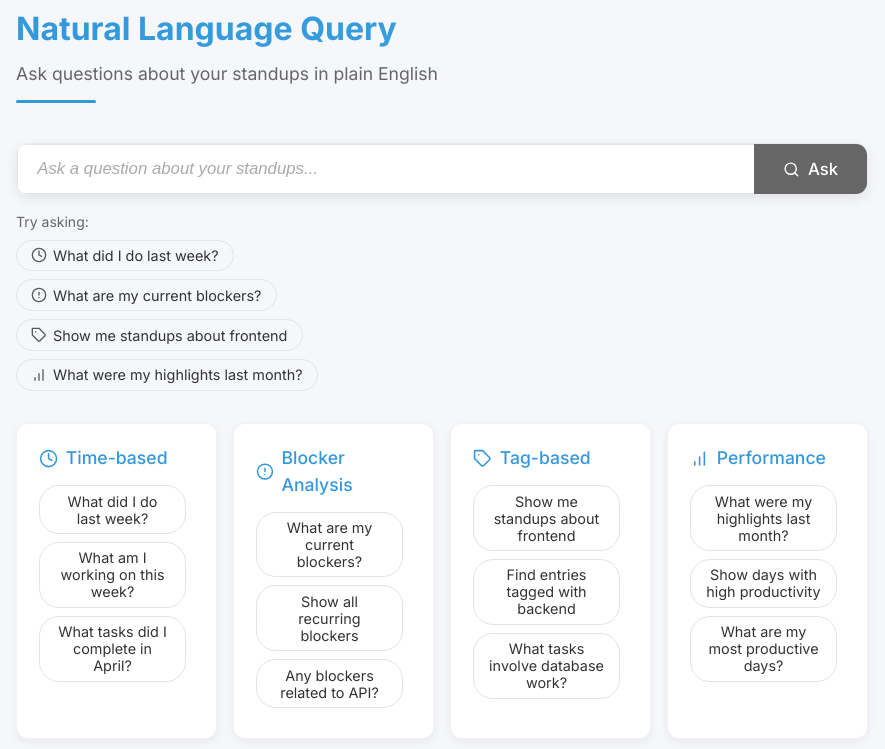
Test: QueryPage Component › handles query submission
Type "tag:api" into the field with placeholder "Ask a question about your standups...". click: (386, 169)
box: [17,144,754,194]
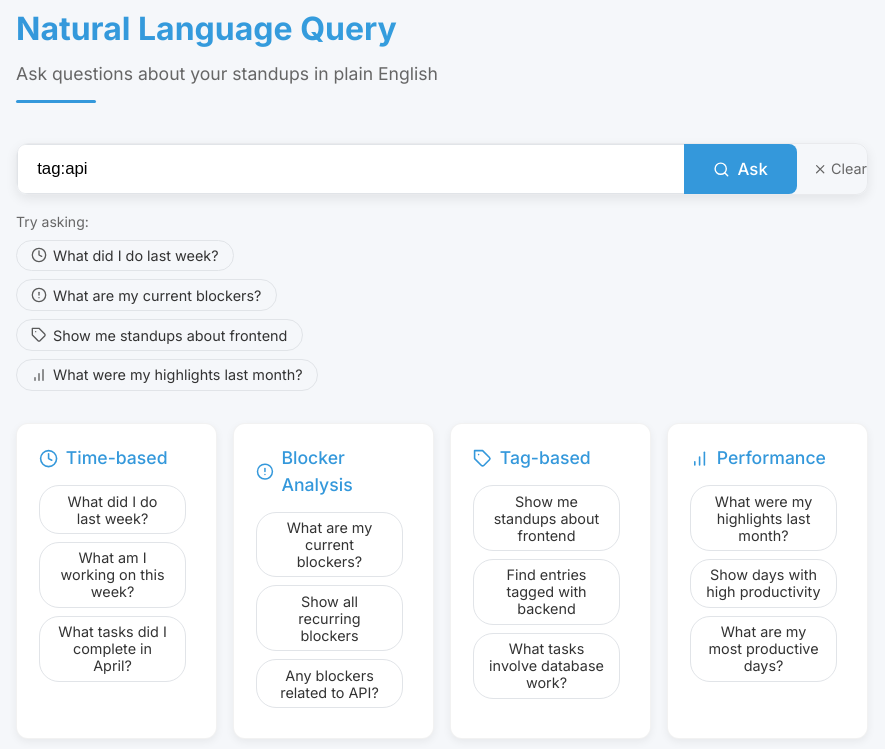
Click the button with test id "query-submit-button". click: (740, 169)
box: [684,144,797,194]
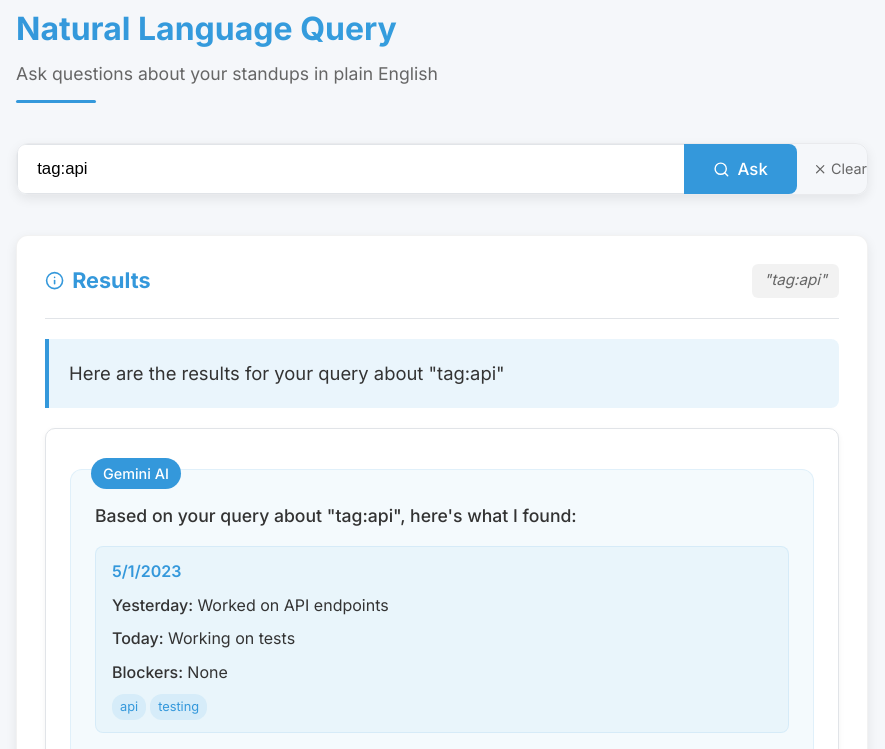
Result: the text "Gemini AI" is shown at [91,458,181,489]
Result: the heading "5/1/2023" is shown at [112,559,181,585]
